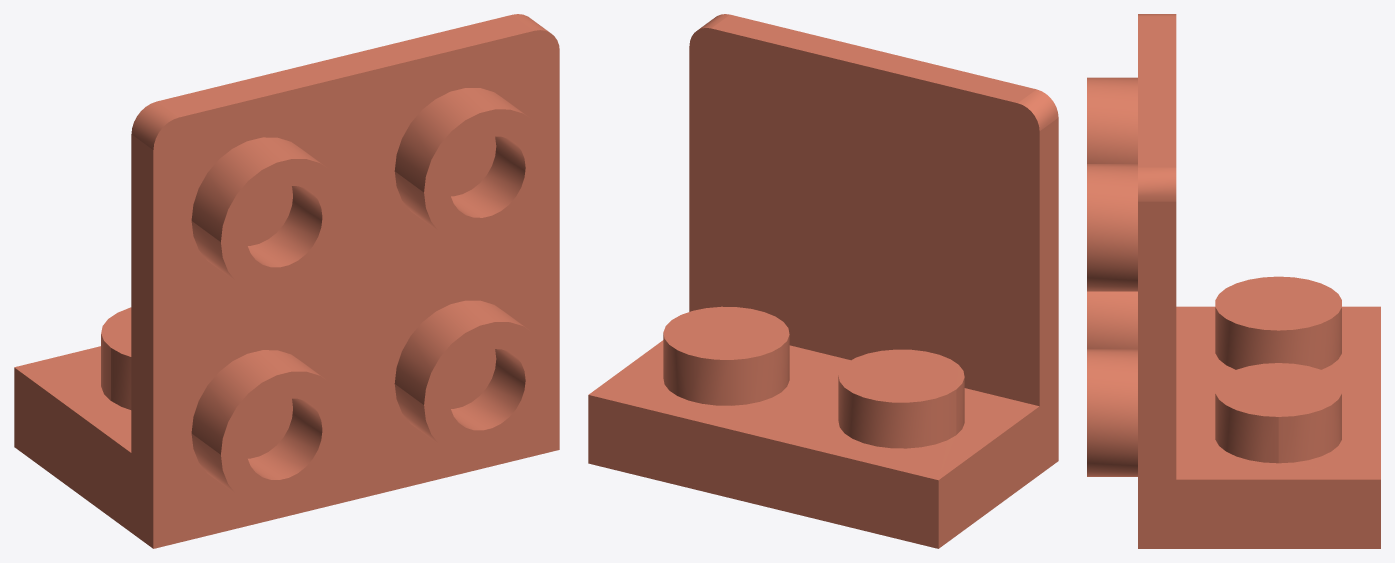
3 renders of one model, left to right at view 1: azimuth 30°, elevation 25°; view 2: azimuth 150°, elevation 25°; view 3: azimuth 270°, elevation 25°, orthographic. The views are drawn at different scales.
Parts seen in each view (by area): view 1: [pivoted]; view 2: [pivoted]; view 3: [pivoted].
Boxes of the visible parts, x1,y1,x2,y2 form: [pivoted]: (14,14,559,548); [pivoted]: (588,14,1058,548); [pivoted]: (1087,14,1380,548).
Size of the model in its own units: 1.6 by 1.6 by 1.15.
